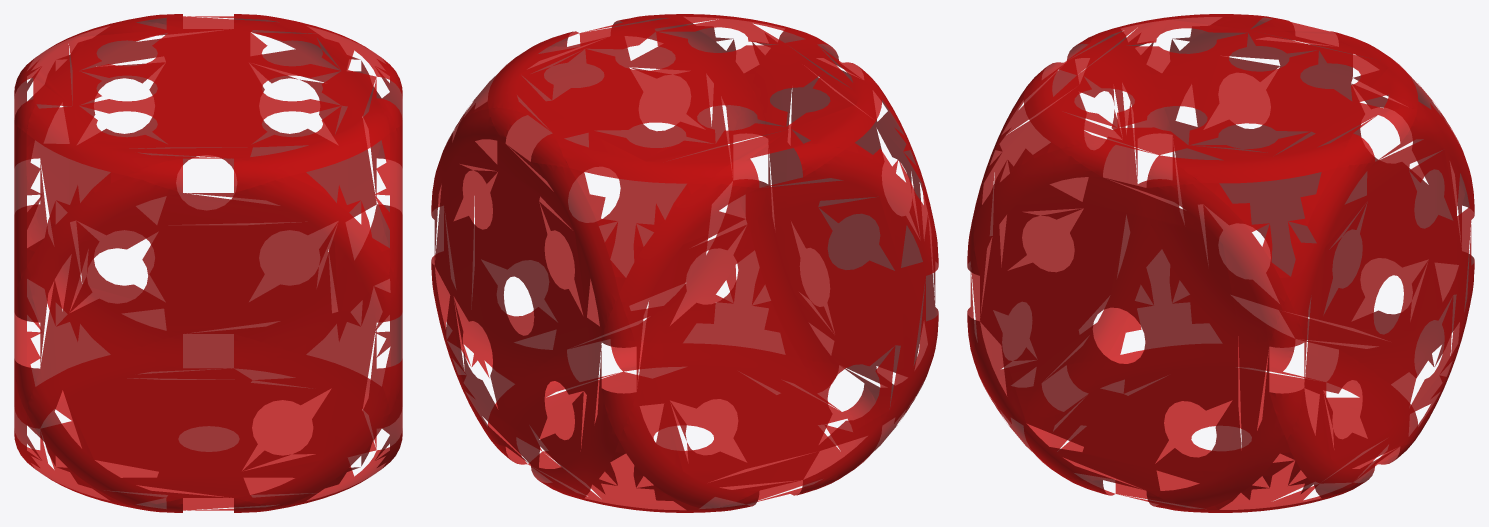
File: d6_pipped_rounded_lowerpoly.fbx
The picture shows the model from 3 angles, left to right: view 1: azimuth 30°, elevation 25°; view 2: azimuth 150°, elevation 25°; view 3: azimuth 270°, elevation 25°; orthographic projection.
Visible parts, largest first — view 1: 6_Sided_Ro; view 2: 6_Sided_Ro; view 3: 6_Sided_Ro.
Part boxes in pixels (x1=…): 6_Sided_Ro: x1=14, y1=14, x2=402, y2=512; 6_Sided_Ro: x1=431, y1=14, x2=938, y2=512; 6_Sided_Ro: x1=967, y1=14, x2=1474, y2=512.
Size of the model in its own units: 10.98 by 8.34 by 10.98.
